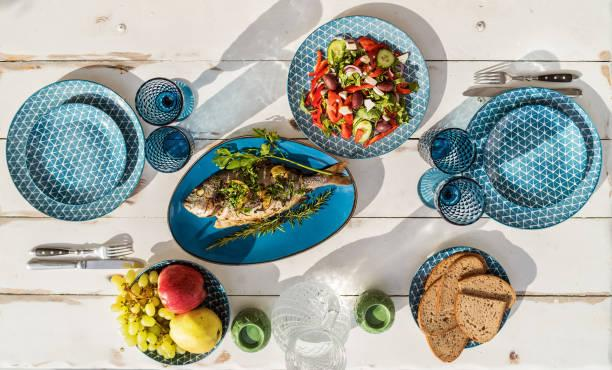Braised Crucian Carp: (167, 135, 359, 269), (286, 14, 430, 160)
